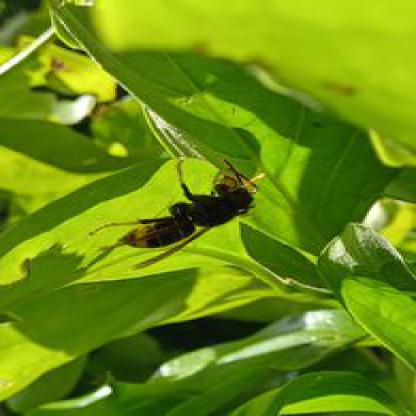Asian Hornet: (88, 161, 258, 270)
